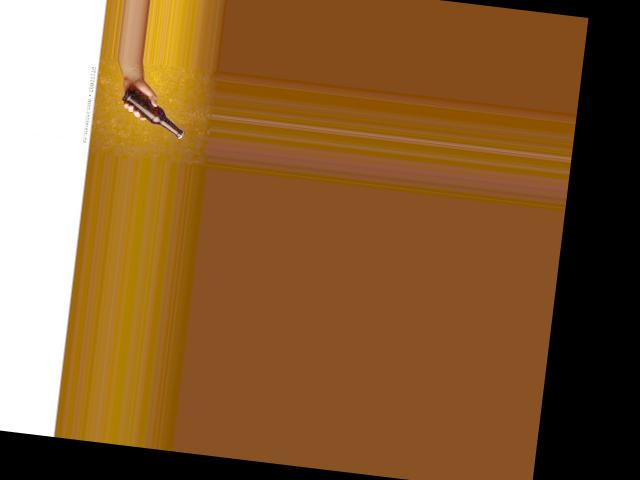beer: (118, 83, 189, 139)
